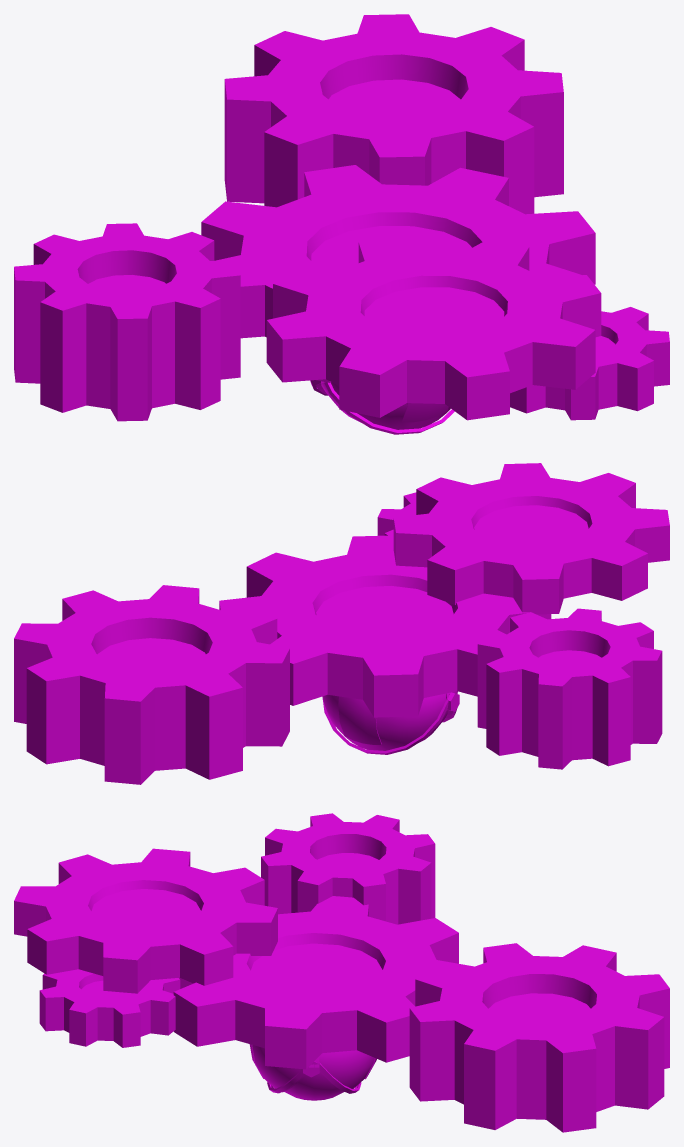
Rendered from SM_yanjing.fbx.
3 renders of one model, top to bottom at view 1: azimuth 30°, elevation 25°; view 2: azimuth 150°, elevation 25°; view 3: azimuth 270°, elevation 25°, orthographic. The views are drawn at different scales.
Parts seen in each view (by area): view 1: SM_yanjing; view 2: SM_yanjing; view 3: SM_yanjing.
Part boxes in pixels (left/top/right/bottom): SM_yanjing: left=14, top=14, right=669, bottom=434; SM_yanjing: left=14, top=463, right=669, bottom=784; SM_yanjing: left=14, top=813, right=669, bottom=1132.
Size of the model in its own units: 656 by 208 by 758.
